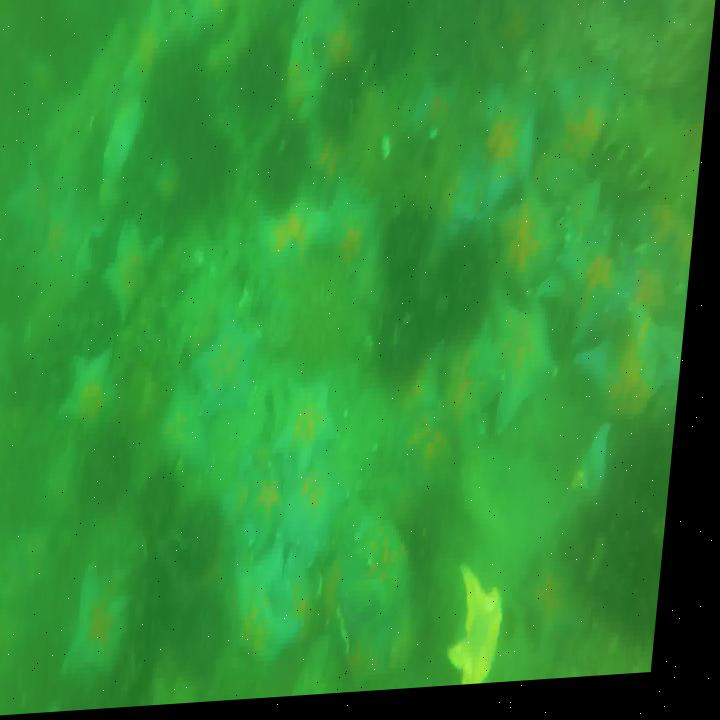echinus: (144, 31, 211, 135), (437, 246, 500, 355), (378, 303, 442, 389), (259, 122, 316, 216), (191, 597, 239, 699), (234, 20, 286, 113), (184, 123, 239, 210), (359, 4, 418, 79), (383, 215, 434, 298), (92, 436, 140, 514), (189, 504, 235, 577), (322, 71, 368, 143), (152, 472, 190, 525)
holothurian: (597, 101, 698, 199)
starfish: (579, 320, 693, 438), (343, 498, 430, 648), (554, 221, 646, 359), (484, 306, 573, 444), (245, 542, 322, 679), (76, 563, 147, 681), (497, 190, 567, 300), (475, 106, 547, 212), (290, 461, 360, 568), (195, 322, 268, 424), (461, 574, 523, 693), (533, 565, 606, 663), (280, 381, 348, 483), (550, 71, 608, 182), (261, 199, 329, 286), (59, 357, 129, 440), (317, 186, 386, 266), (0, 532, 71, 609), (107, 224, 161, 323), (434, 172, 488, 269), (247, 455, 297, 548), (99, 103, 144, 200), (403, 355, 454, 436), (583, 439, 625, 537), (45, 197, 88, 289), (8, 172, 56, 251), (312, 13, 366, 72), (168, 407, 216, 466), (420, 88, 457, 136), (0, 319, 23, 395)
